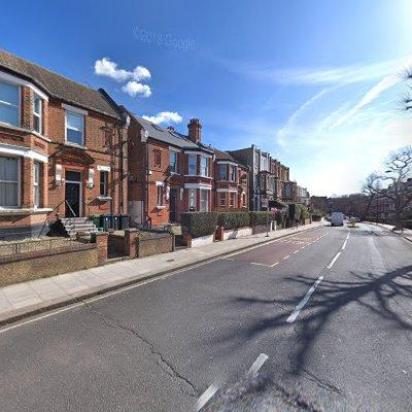moving-light-truck: (329, 212, 344, 226)
